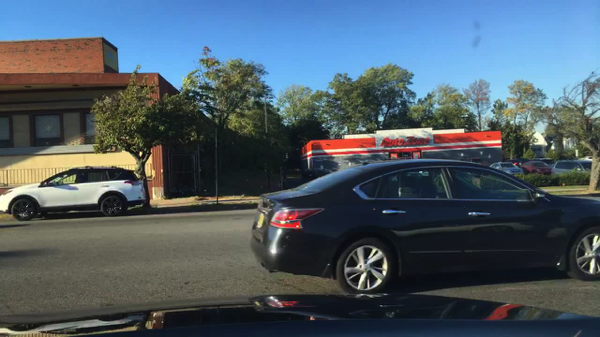car: (248, 159, 599, 296), (0, 166, 147, 221), (552, 158, 594, 173), (518, 160, 555, 174), (491, 162, 527, 176)
